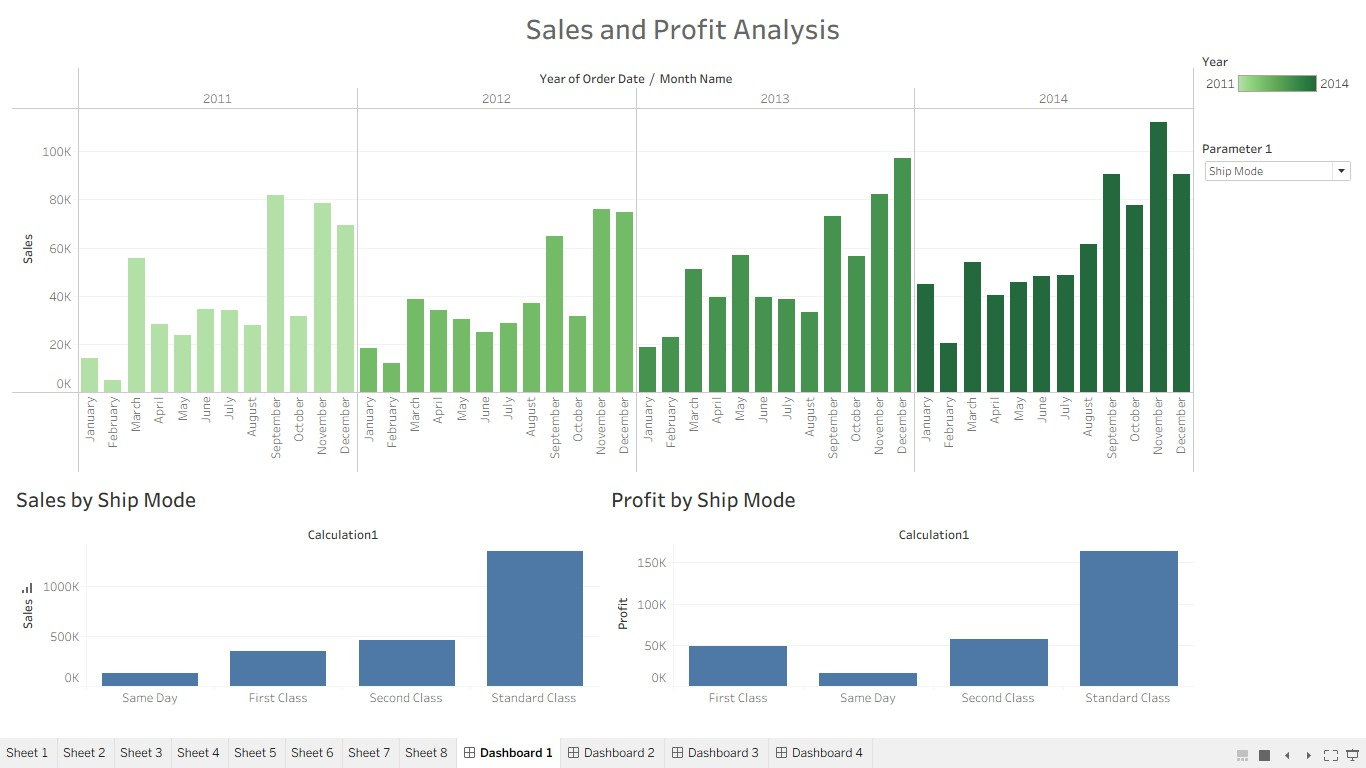

The page's visual inventory and layout, read from the dashboard file:
{"tool":"tableau","page":{"name":"Dashboard 1","canvas":[1000,1000],"units":"permille","ordinal":0},"visuals":[{"type":"text","box":[5.9,10.8,988.3,55.1]},{"type":"worksheet","title":"Sheet 1","mark":"Bar","rows":["Sales"],"cols":["Order Date","Month Name"],"box":[5.9,65.9,871.1,580.5]},{"type":"legend","title":"Sheet 1","param":"[federated.0l0dk5t0gwyycw1fptb6117qf8yz].[none:Year:qk]","box":[877,65.9,117.1,88.1]},{"type":"legend","title":"Sheet 2","param":"[federated.0l0dk5t0gwyycw1fptb6117qf8yz].[Product Name (group)]","box":[877,154,117.1,29.8]},{"type":"parameter","param":"[Parameters].[Parameter 0630055263412224]","box":[877,183.8,117.1,70.5]},{"type":"worksheet","title":"Sheet 2","mark":"Automatic","rows":["Sales"],"cols":["Calculation_0630055264485377"],"box":[5.9,646.4,435.6,342.8]},{"type":"worksheet","title":"Sheet 3","mark":"Automatic","rows":["Profit"],"cols":["Calculation_0630055264485377"],"box":[441.4,646.4,435.6,342.8]}]}

Visuals, with their boxes on the dashboard's canvas, which has no fixed pixel size, in thousandths of its width and height (x1, y1, x2, y2). These are canvas units, not pixel positions in the 1366x768 screenshot, which may show the page scaled, cropped or inside an application window:
text: <box>6,11,994,66</box>
"Sheet 1" worksheet (Bar marks): <box>6,66,877,646</box>
"Sheet 1" legend: <box>877,66,994,154</box>
"Sheet 2" legend: <box>877,154,994,184</box>
parameter: <box>877,184,994,254</box>
"Sheet 2" worksheet: <box>6,646,442,989</box>
"Sheet 3" worksheet: <box>441,646,877,989</box>
